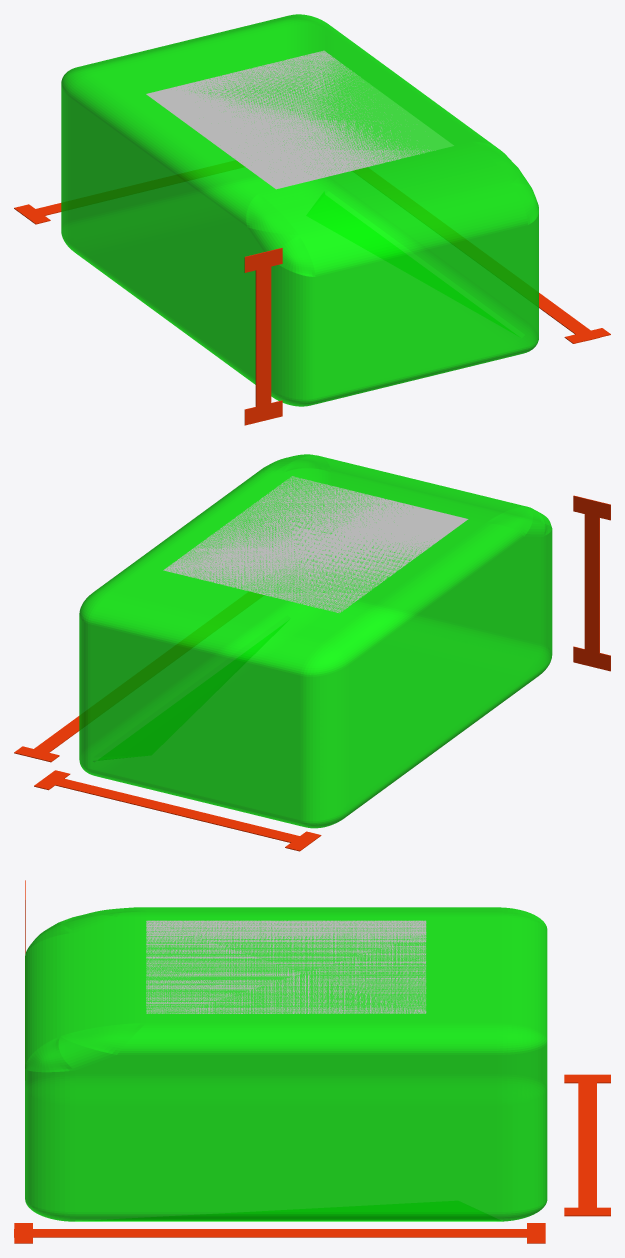
File: duffel_green.obj
3 renders of one model, top to bottom at view 1: azimuth 30°, elevation 25°; view 2: azimuth 150°, elevation 25°; view 3: azimuth 270°, elevation 25°, orthographic. The views are drawn at different scales.
Parts seen in each view (by area): view 1: Cube, newLogo_white, ruler_x_Plane.005, ruler_z_Plane.002, ruler_y_Plane.007; view 2: Cube, newLogo_white, ruler_x_Plane.005, ruler_y_Plane.007, ruler_z_Plane.002; view 3: Cube, newLogo_white, ruler_z_Plane.002, ruler_y_Plane.007.
Part boxes in pixels (bbox=[...]): Cube: bbox=[61, 14, 538, 406]; newLogo_white: bbox=[146, 50, 453, 189]; ruler_x_Plane.005: bbox=[244, 248, 282, 425]; ruler_z_Plane.002: bbox=[539, 293, 610, 343]; ruler_y_Plane.007: bbox=[14, 203, 61, 224]; Cube: bbox=[79, 454, 552, 828]; newLogo_white: bbox=[163, 476, 468, 613]; ruler_x_Plane.005: bbox=[573, 495, 610, 671]; ruler_y_Plane.007: bbox=[34, 770, 321, 851]; ruler_z_Plane.002: bbox=[14, 716, 79, 762]; Cube: bbox=[25, 907, 547, 1221]; newLogo_white: bbox=[146, 920, 426, 1013]; ruler_z_Plane.002: bbox=[14, 1223, 545, 1243]; ruler_y_Plane.007: bbox=[564, 1074, 610, 1216].
Size of the model in its own units: 0.48 by 0.23 by 0.64.
